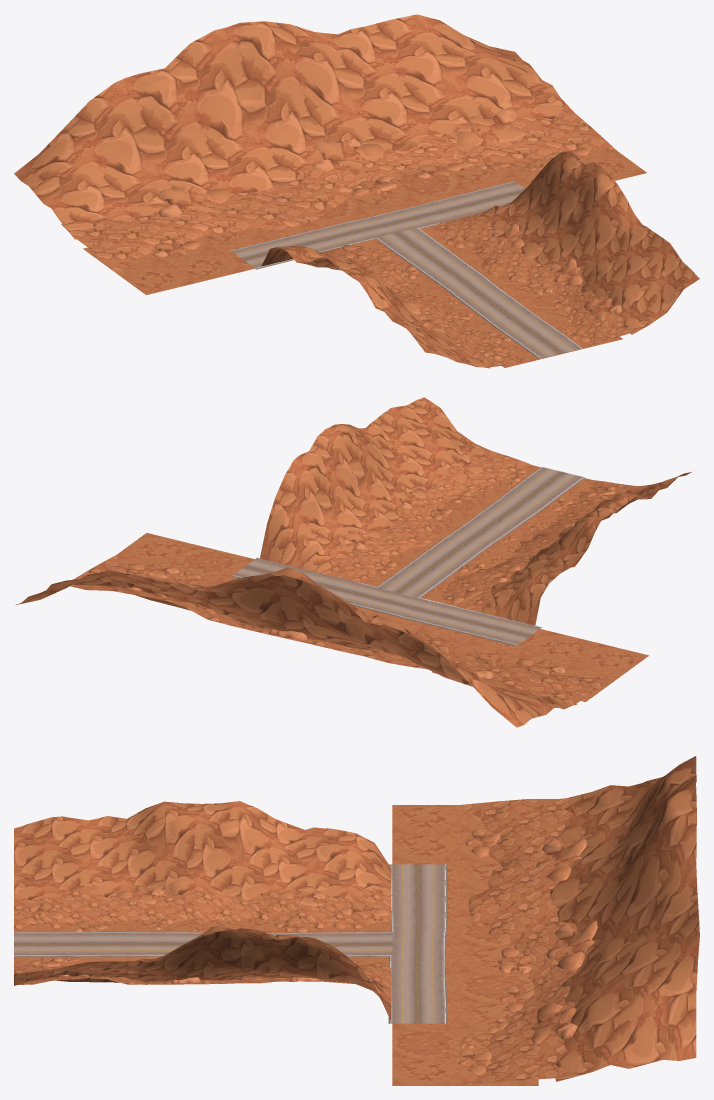
The model's file is Desert_Start.FBX.
3 views of the same model, one above another, from view 1: azimuth 30°, elevation 25°; view 2: azimuth 150°, elevation 25°; view 3: azimuth 270°, elevation 25° (orthographic). The views are drawn at different scales.
Visible parts, largest first — view 1: Desert_Start_Back, Desert_Start_L, Desert_Start_Road, Desert_Start_R; view 2: Desert_Start_Back, Desert_Start_L, Desert_Start_Road, Desert_Start_R; view 3: Desert_Start_Back, Desert_Start_R, Desert_Start_Road, Desert_Start_L.
Part boxes in pixels (x1=…): Desert_Start_Back: x1=14, y1=14, x2=646, y2=295; Desert_Start_L: x1=421, y1=151, x2=699, y2=353; Desert_Start_Road: x1=230, y1=181, x2=582, y2=359; Desert_Start_R: x1=261, y1=239, x2=561, y2=368; Desert_Start_Back: x1=15, y1=533, x2=648, y2=727; Desert_Start_L: x1=260, y1=397, x2=540, y2=586; Desert_Start_Road: x1=232, y1=467, x2=584, y2=646; Desert_Start_R: x1=421, y1=472, x2=691, y2=625; Desert_Start_Back: x1=392, y1=756, x2=699, y2=1085; Desert_Start_R: x1=14, y1=801, x2=390, y2=932; Desert_Start_Road: x1=14, y1=864, x2=447, y2=1023; Desert_Start_L: x1=14, y1=926, x2=390, y2=1020.
Size of the model in its own units: 88.15 by 20.54 by 90.96.
Materials: 2 (2 with a texture image).
